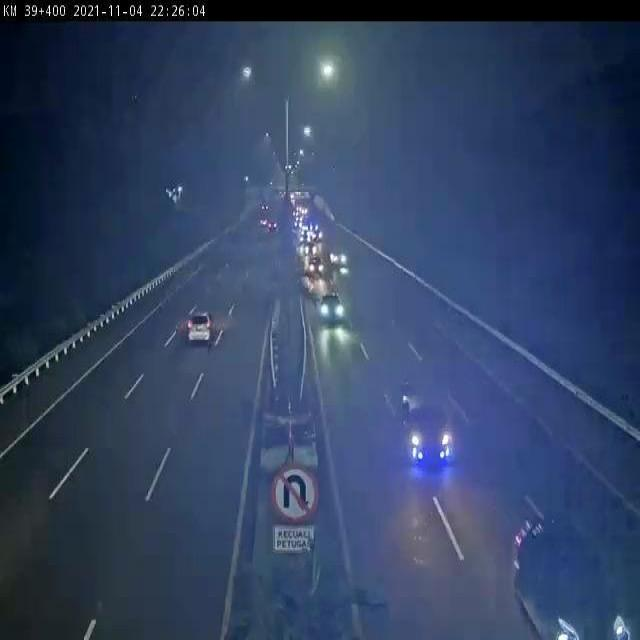car: (402, 389, 453, 467), (188, 309, 212, 348), (319, 292, 346, 324), (331, 248, 349, 269), (310, 255, 324, 276)
